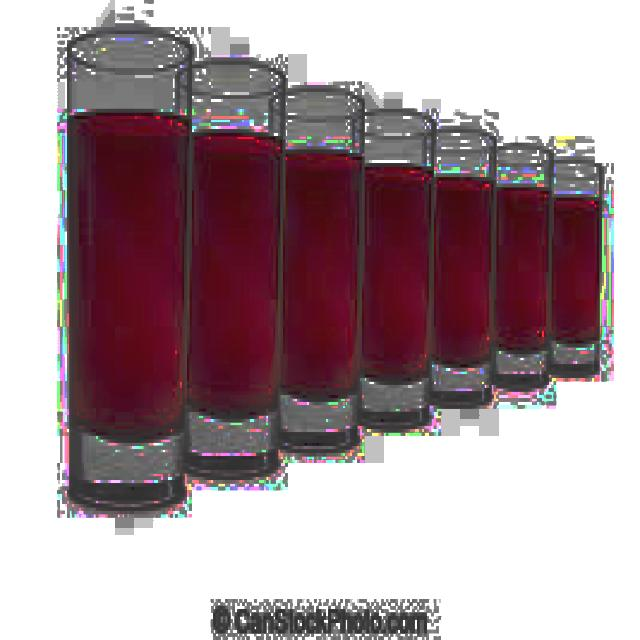drink: (57, 17, 196, 511), (175, 51, 285, 483), (268, 75, 364, 453), (354, 98, 438, 436), (424, 119, 496, 412), (492, 133, 552, 395), (549, 146, 604, 382)
